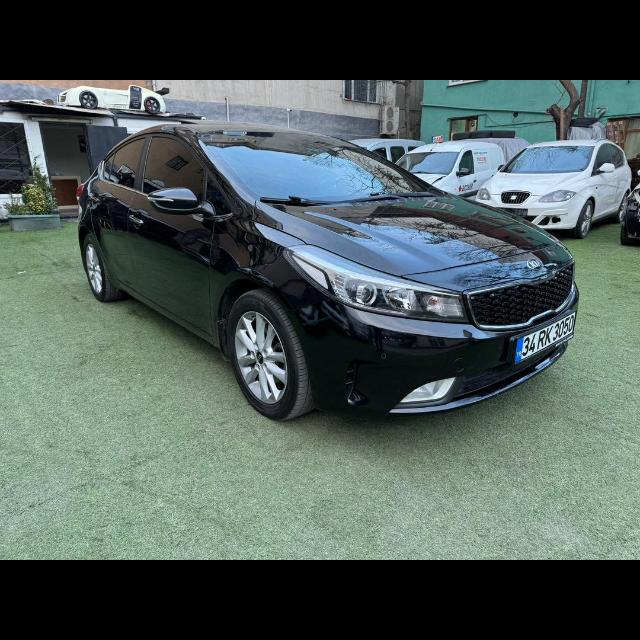Plaka: (514, 312, 576, 362)
